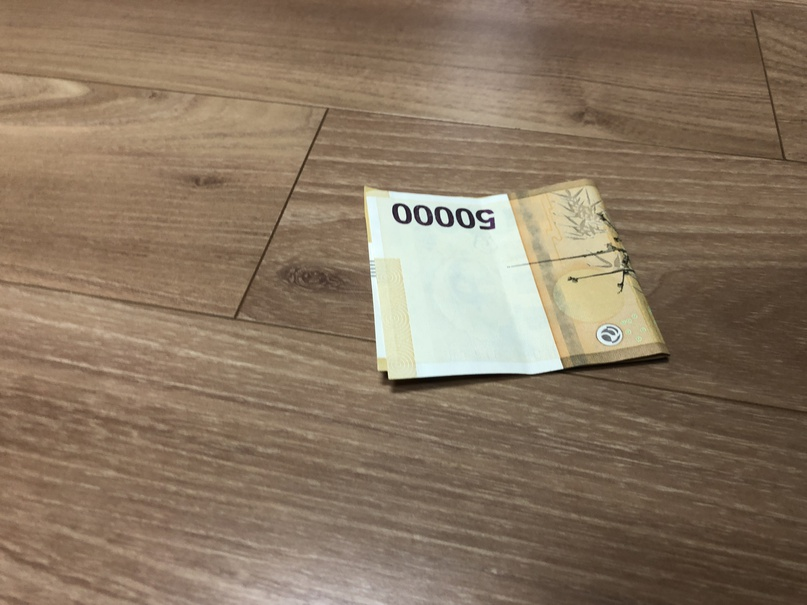50000won: (364, 178, 669, 380)
